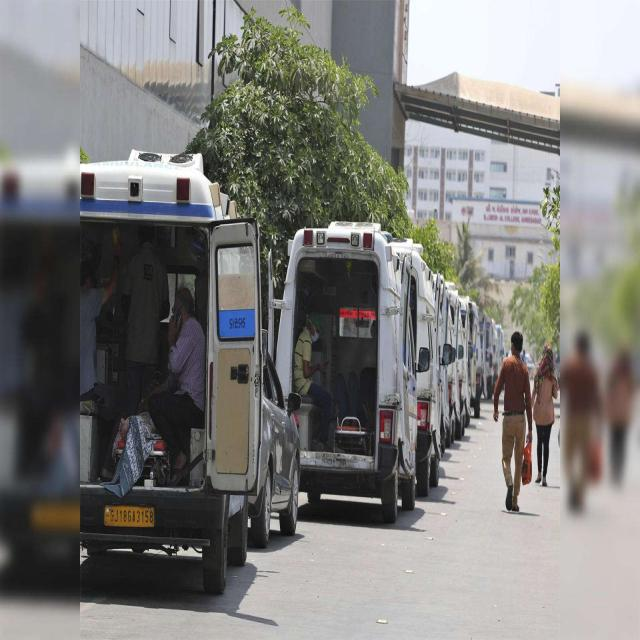emergency: (80, 151, 260, 593), (276, 222, 418, 522), (391, 240, 441, 496)
